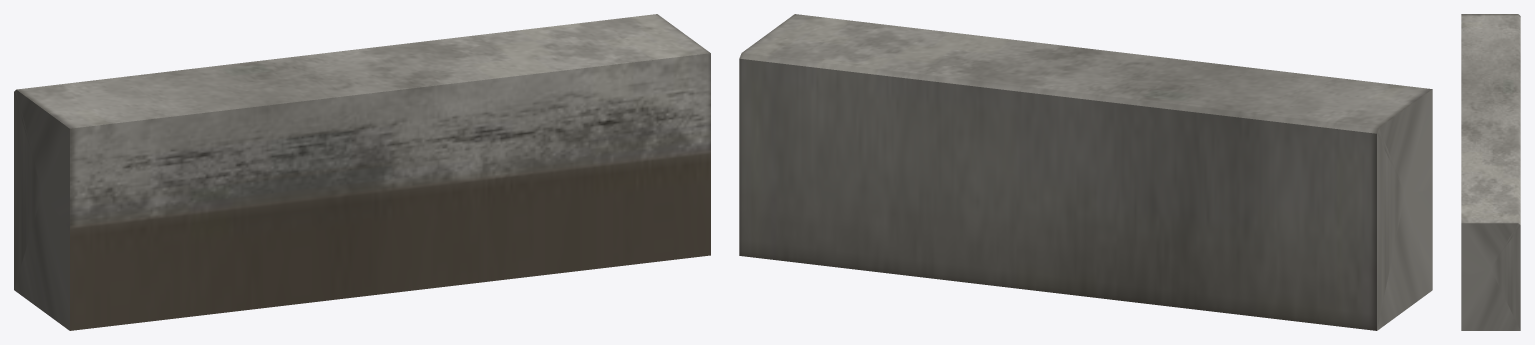
The model's file is curb_ramp_down_lod2_web.glb.
3 views of the same model, side by side, from view 1: azimuth 30°, elevation 25°; view 2: azimuth 150°, elevation 25°; view 3: azimuth 270°, elevation 25° (orthographic). The views are drawn at different scales.
Parts seen in each view (by area): view 1: curb_ramp_down_Mesh; view 2: curb_ramp_down_Mesh; view 3: curb_ramp_down_Mesh.
Part boxes in pixels (x1,y1,x2,y2): curb_ramp_down_Mesh: (14, 14, 710, 330); curb_ramp_down_Mesh: (739, 14, 1432, 330); curb_ramp_down_Mesh: (1461, 14, 1520, 330).
Size of the model in its own units: 0.995 by 0.42 by 0.15.
1 material, 1 textured.
